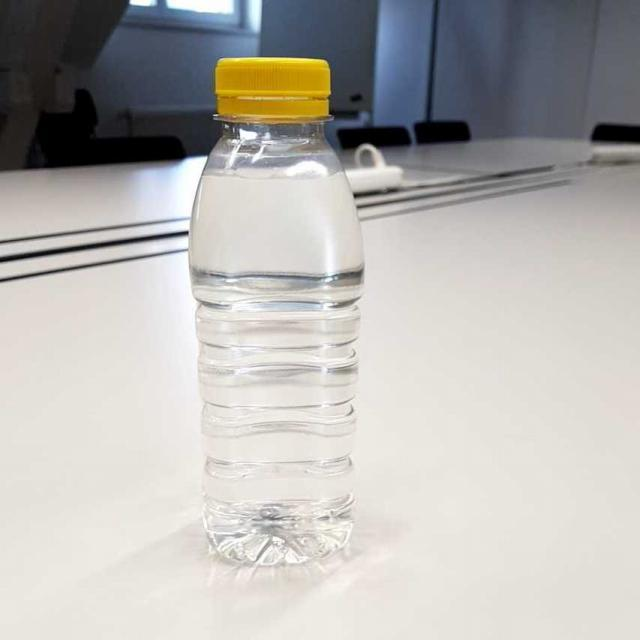water: (185, 70, 375, 566), (176, 66, 363, 566), (193, 59, 375, 565), (186, 58, 361, 570), (187, 58, 362, 563), (193, 62, 366, 570), (183, 53, 349, 578), (186, 64, 361, 560), (175, 66, 348, 566), (188, 51, 354, 571), (193, 66, 362, 560), (189, 62, 354, 563), (201, 62, 361, 574), (181, 122, 358, 574), (197, 131, 352, 558)
